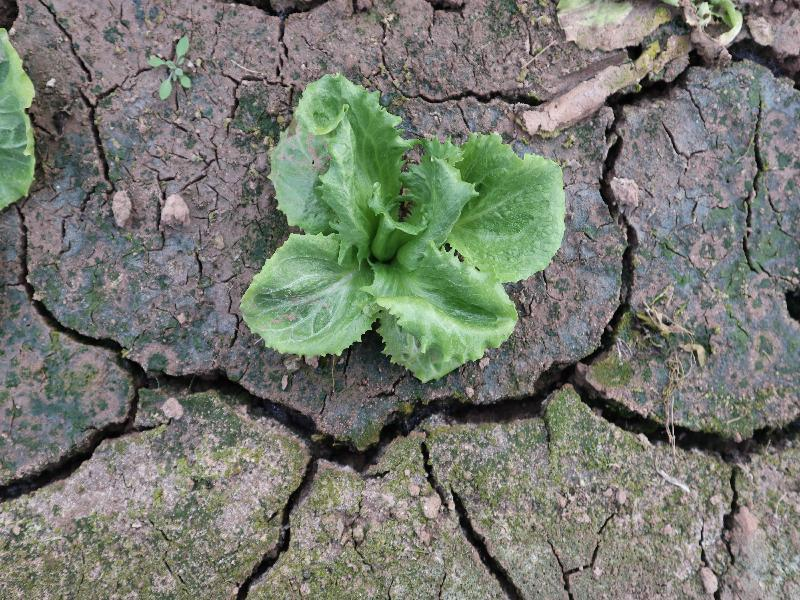lettuce: (237, 72, 566, 383)
